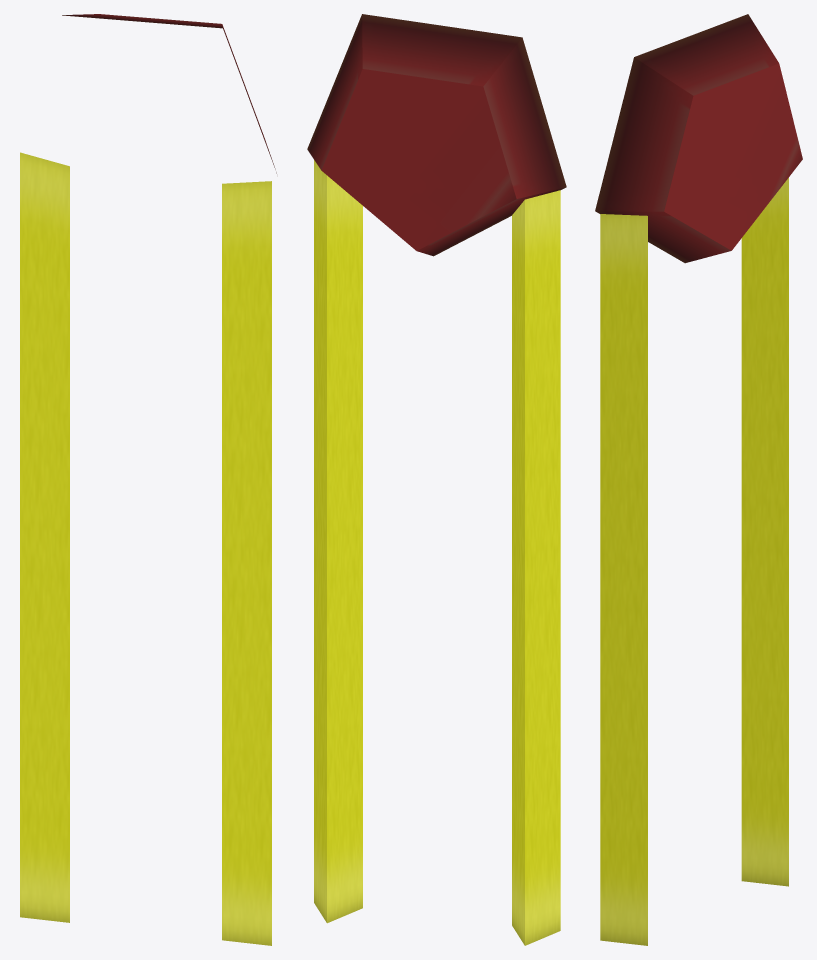
The picture shows the model from 3 angles, left to right: view 1: azimuth 30°, elevation 25°; view 2: azimuth 210°, elevation 25°; view 3: azimuth 270°, elevation 25°; orthographic projection. The views are drawn at different scales.
Visible parts, largest first — view 1: Cylinder06; view 2: Cylinder06; view 3: Cylinder06.
Part boxes in pixels (x1,y1,x2,y2): Cylinder06: [20, 14, 276, 945]; Cylinder06: [307, 14, 566, 945]; Cylinder06: [595, 14, 802, 945].
Size of the model in its own units: 132 by 605 by 131.
2 materials, 2 textured.
